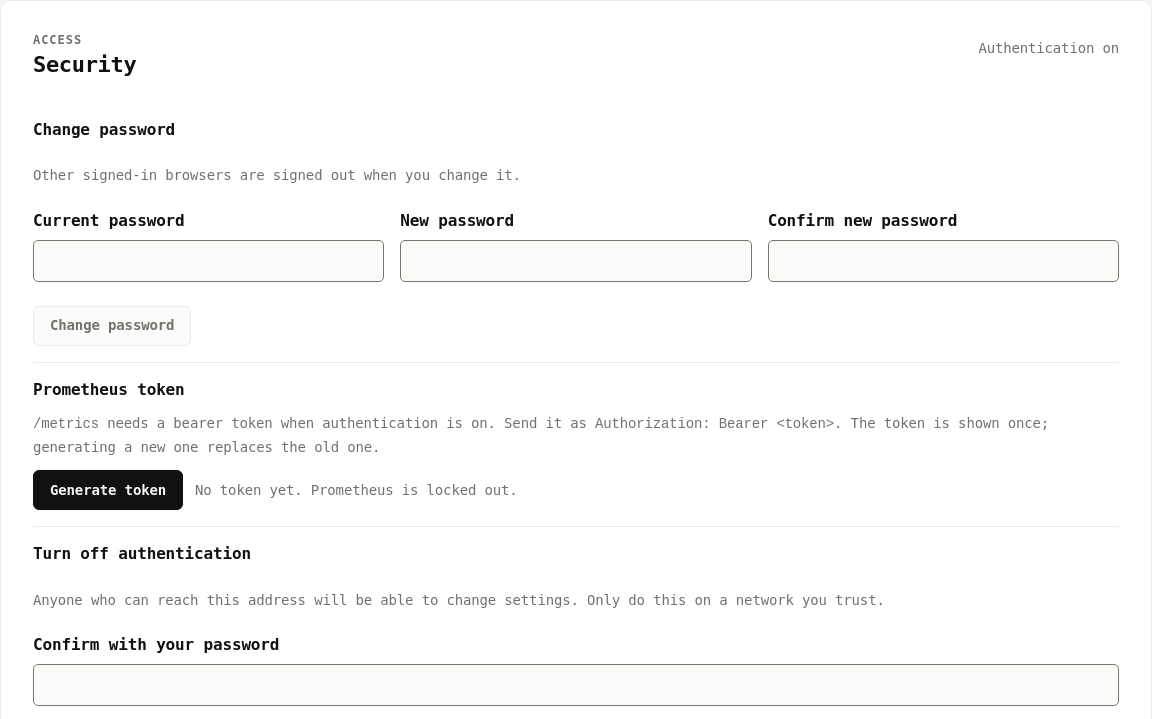
SecuritySection › lets the owner generate a metrics token and shows it once
What coordinates should you click on to do the following:
click the button "Generate token"
I would click on:
 (108, 490)
Its box is [33,470,183,510].
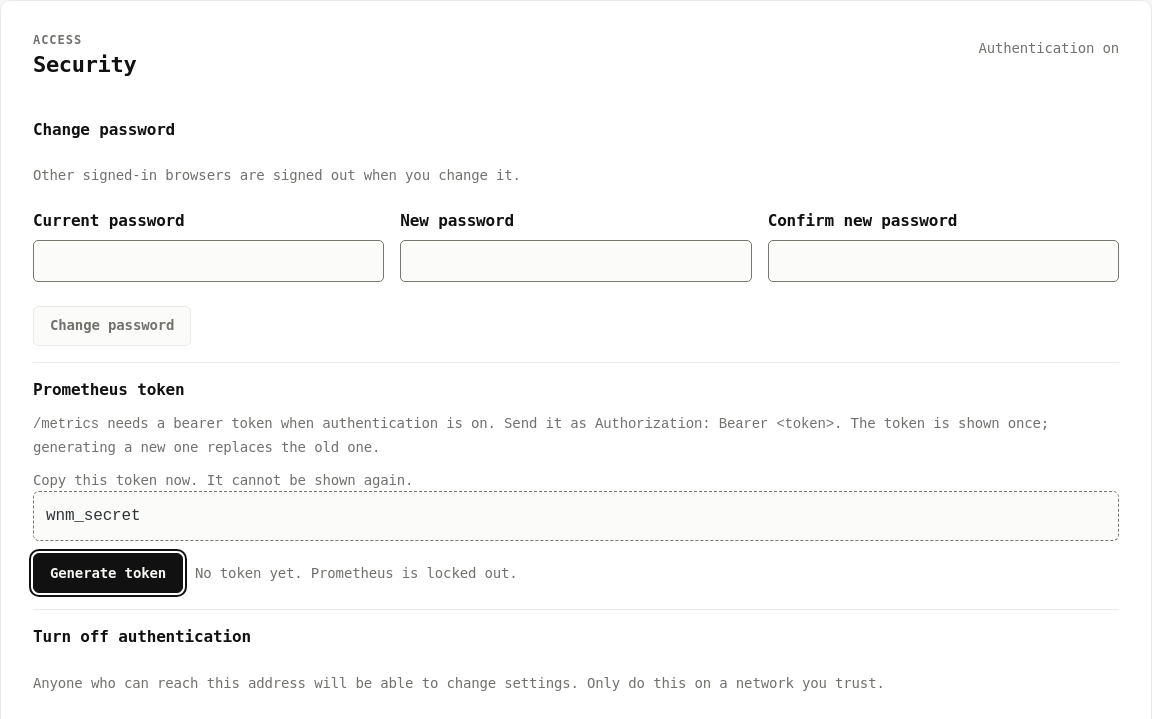
Check: the text "wnm_secret" is shown, box [33,491,1119,541]
